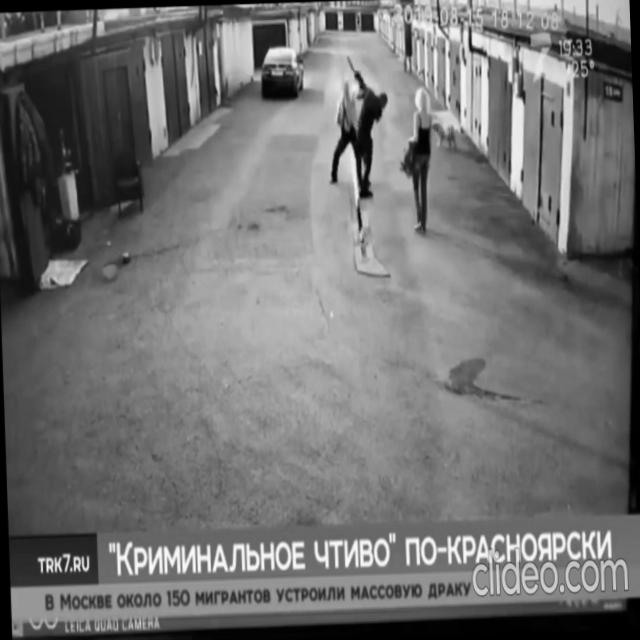gun: (346, 54, 370, 99)
person: (403, 85, 437, 236), (327, 78, 364, 186)
person with a gun: (346, 54, 392, 200)
